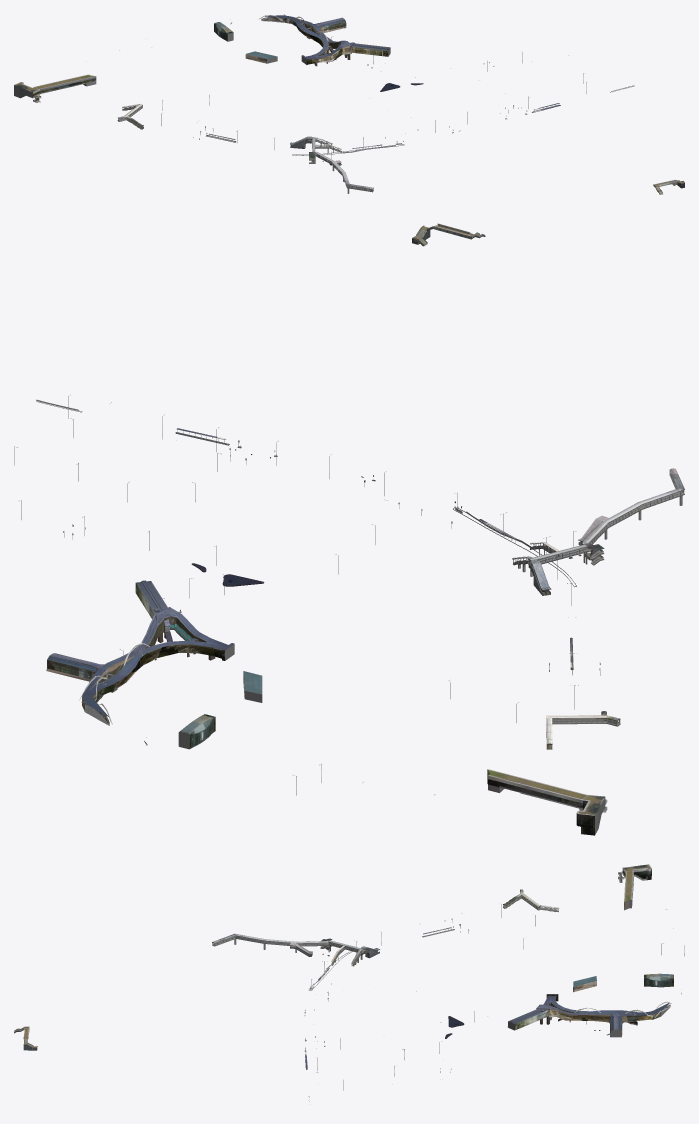
File: context.glb
The picture shows the model from 3 angles, top to bottom: view 1: azimuth 30°, elevation 25°; view 2: azimuth 150°, elevation 25°; view 3: azimuth 270°, elevation 25°; orthographic projection. The views are drawn at different scales.
Visible parts, largest first — view 1: I399521645303063A1, I397501620001062A1, I396851646203063A0, I398341612203063A0, I399871637003063A1, I397331636603063A0; view 2: I399521645303063A1, I396851646203063A0, I397501620001062A1, I398341612203063A0, I398381621203063A0, I397331636603063A0; view 3: I399521645303063A1, I398341612203063A0, I397501620001062A1, I396851646203063A0, I399871637003063A1, I399071648503063A0.
Boxes of the visible parts, <box> form: I399521645303063A1: <box>259,14,351,66</box>; I397501620001062A1: <box>119,36,634,161</box>; I396851646203063A0: <box>14,74,96,102</box>; I398341612203063A0: <box>315,151,373,193</box>; I399871637003063A1: <box>349,42,390,56</box>; I397331636603063A0: <box>117,103,143,129</box>; I399521645303063A1: <box>46,607,234,725</box>; I396851646203063A0: <box>487,769,607,835</box>; I397501620001062A1: <box>14,394,600,795</box>; I398341612203063A0: <box>578,468,684,548</box>; I398381621203063A0: <box>528,542,604,576</box>; I397331636603063A0: <box>546,711,620,749</box>; I399521645303063A1: <box>536,994,671,1037</box>; I398341612203063A0: <box>212,933,328,956</box>; I397501620001062A1: <box>304,904,684,1101</box>; I396851646203063A0: <box>618,864,651,910</box>; I399871637003063A1: <box>508,1008,548,1030</box>; I399071648503063A0: <box>644,973,673,987</box>.
Size of the model in its own units: 487 by 36.66 by 563.
Materials: 50 (49 with a texture image).
